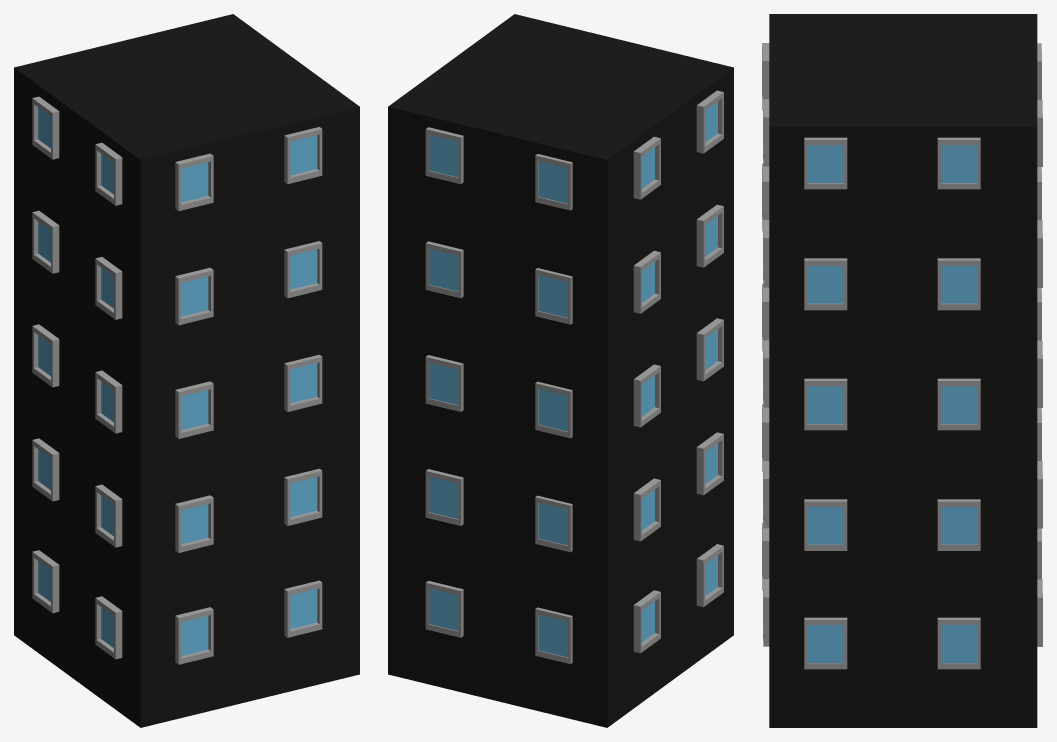
Rendered from WorkBuilding.fbx.
The picture shows the model from 3 angles, left to right: view 1: azimuth 30°, elevation 25°; view 2: azimuth 150°, elevation 25°; view 3: azimuth 270°, elevation 25°; orthographic projection. The views are drawn at different scales.
Visible parts, largest first — view 1: Cube.068, Cube.051, Cube.017, Cube.034, Cube, Cube.005, Cube.058, Cube.024, Cube.041, Cube.075, Cube.003, Cube.056 (+23 smaller); view 2: Cube.068, Cube, Cube.034, Cube.051, Cube.017, Cube.008, Cube.061, Cube.027, Cube.029, Cube.044, Cube.046, Cube.063 (+23 smaller); view 3: Cube.068, Cube.017, Cube.051, Cube.034, Cube, Cube.012, Cube.014, Cube.031, Cube.033, Cube.048, Cube.050, Cube.065 (+19 smaller).
Boxes of the visible parts, x1,y1,x2,y2 form: Cube.068: [14, 14, 359, 274]; Cube.051: [14, 182, 359, 388]; Cube.017: [14, 409, 359, 616]; Cube.034: [14, 295, 359, 502]; Cube: [14, 521, 359, 727]; Cube.005: [175, 607, 213, 664]; Cube.058: [175, 267, 213, 325]; Cube.024: [175, 495, 213, 552]; Cube.041: [175, 381, 213, 438]; Cube.075: [175, 153, 213, 210]; Cube.003: [284, 580, 322, 637]; Cube.056: [284, 241, 322, 298]; Cube.068: [388, 14, 733, 273]; Cube: [388, 522, 733, 727]; Cube.034: [388, 296, 733, 501]; Cube.051: [388, 182, 733, 387]; Cube.017: [388, 410, 733, 613]; Cube.008: [429, 588, 458, 630]; Cube.061: [429, 249, 458, 291]; Cube.027: [429, 476, 458, 518]; Cube.029: [538, 503, 567, 545]; Cube.044: [429, 362, 458, 404]; Cube.046: [538, 389, 567, 431]; Cube.063: [538, 275, 567, 317]; Cube.068: [769, 14, 1037, 248]; Cube.017: [769, 488, 1037, 609]; Cube.051: [769, 248, 1037, 369]; Cube.034: [769, 368, 1037, 489]; Cube: [769, 610, 1037, 727]; Cube.012: [807, 625, 843, 662]; Cube.014: [941, 625, 977, 662]; Cube.031: [807, 507, 843, 544]; Cube.033: [941, 507, 977, 544]; Cube.048: [807, 386, 843, 423]; Cube.050: [941, 386, 977, 423]; Cube.065: [807, 266, 843, 303].
Bounding box in the file's own units: 211 × 495 × 210.
